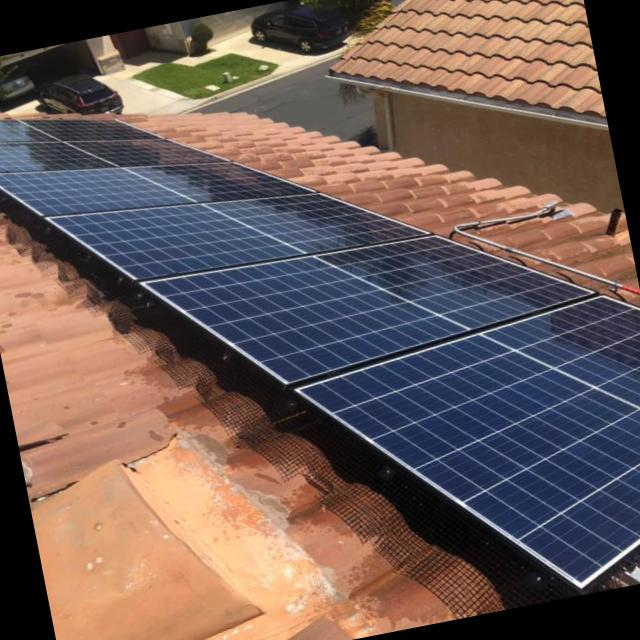no faulty: (0, 135, 640, 593)
